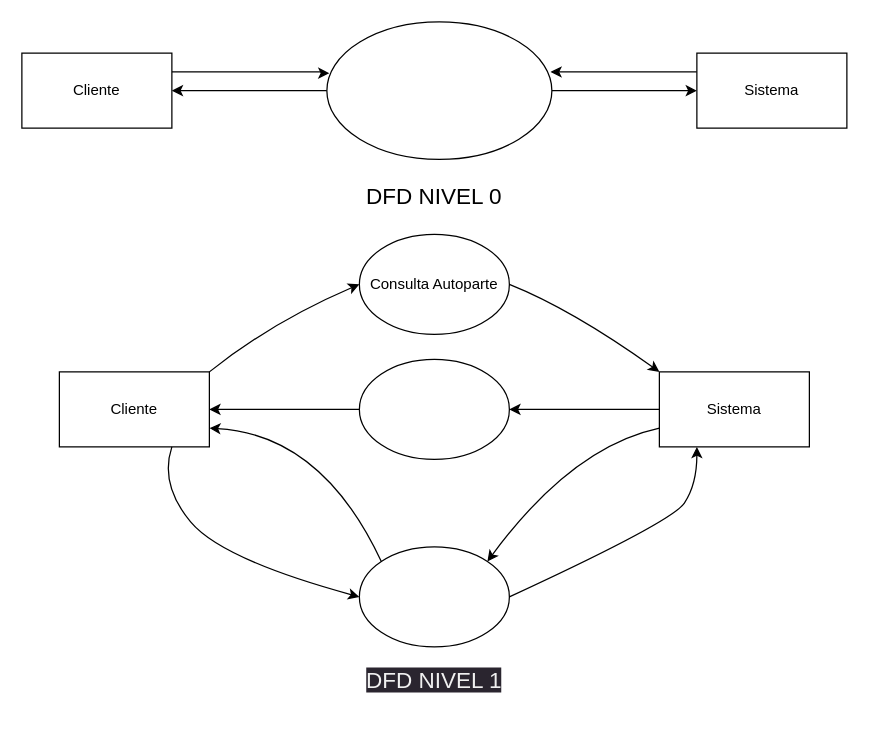
The diagram is 869 pixels wide and 744 high, and some of its shapes have lost their labels. Each missing label, with the centre of its shape:
Abonar: point 433,596
Cargar Autoparte Requerida: point 433,408
Gestion Fabrica de Autopartes: point 439,90
